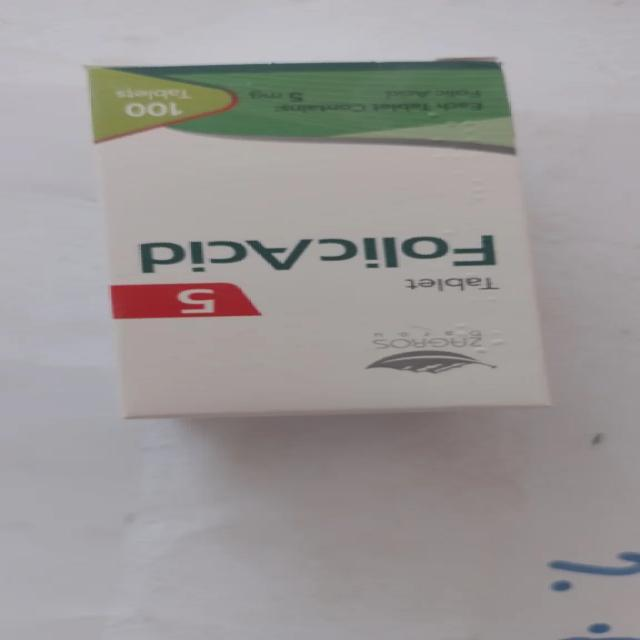drug-name: (126, 230, 518, 276)
